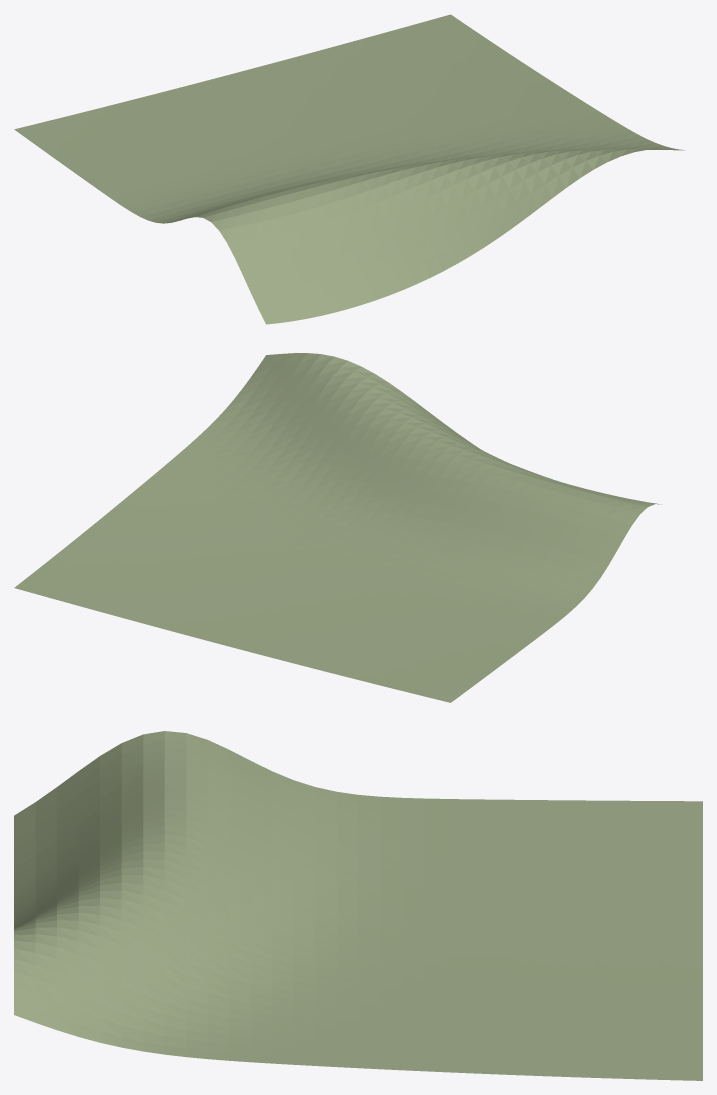
File: lunar-1-3.glb
The picture shows the model from 3 angles, top to bottom: view 1: azimuth 30°, elevation 25°; view 2: azimuth 150°, elevation 25°; view 3: azimuth 270°, elevation 25°; orthographic projection. The views are drawn at different scales.
Visible parts, largest first — view 1: lunar-1-3; view 2: lunar-1-3; view 3: lunar-1-3.
Part boxes in pixels (left/top/right/bottom): lunar-1-3: left=14, top=14, right=684, bottom=324; lunar-1-3: left=14, top=353, right=661, bottom=702; lunar-1-3: left=14, top=731, right=702, bottom=1080.
Size of the model in its own units: 128 by 24.45 by 128.
